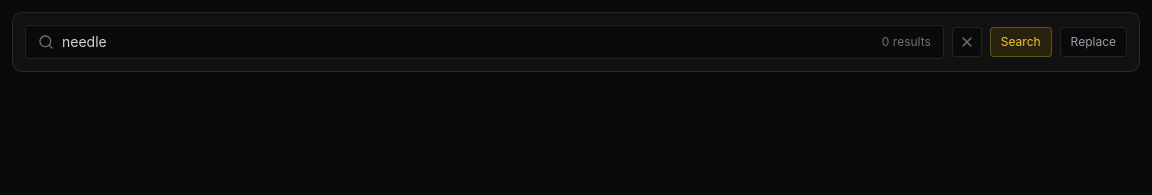
Test: TreeSearchBar replace controls › disables both actions after Replace all and re-enables them when the replacement changes
Click the button "Replace" at (1093, 42), box [1060, 27, 1127, 57]
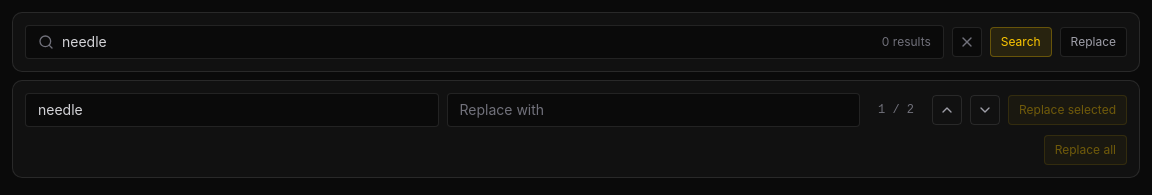
Type "replacement" into the field named "Replacement text" at (653, 110), box [446, 93, 860, 127]
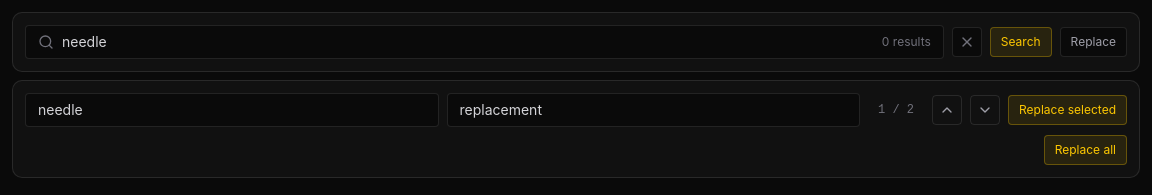
Click the button "Replace all" at (1085, 150), box [1044, 135, 1127, 165]
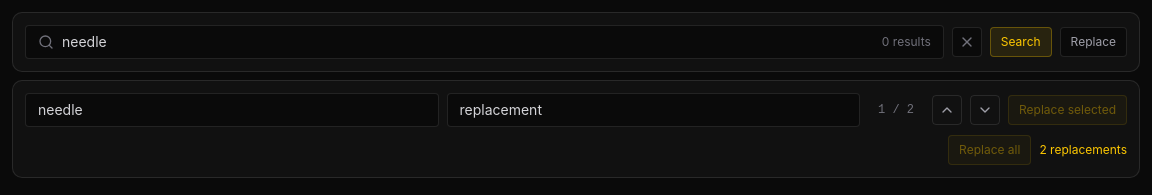
Expected: the button "Replace selected" is disabled, [1008, 95, 1127, 125]
Expected: the button "Replace all" is disabled, [948, 135, 1031, 165]
Replace the text in the field named "Replacement text" with "another" at (653, 110), box [446, 93, 860, 127]
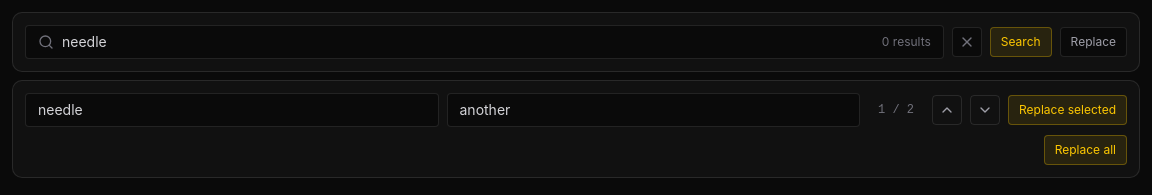
Expected: the button "Replace selected" is enabled, [1008, 95, 1127, 125]
Expected: the button "Replace all" is enabled, [1044, 135, 1127, 165]
